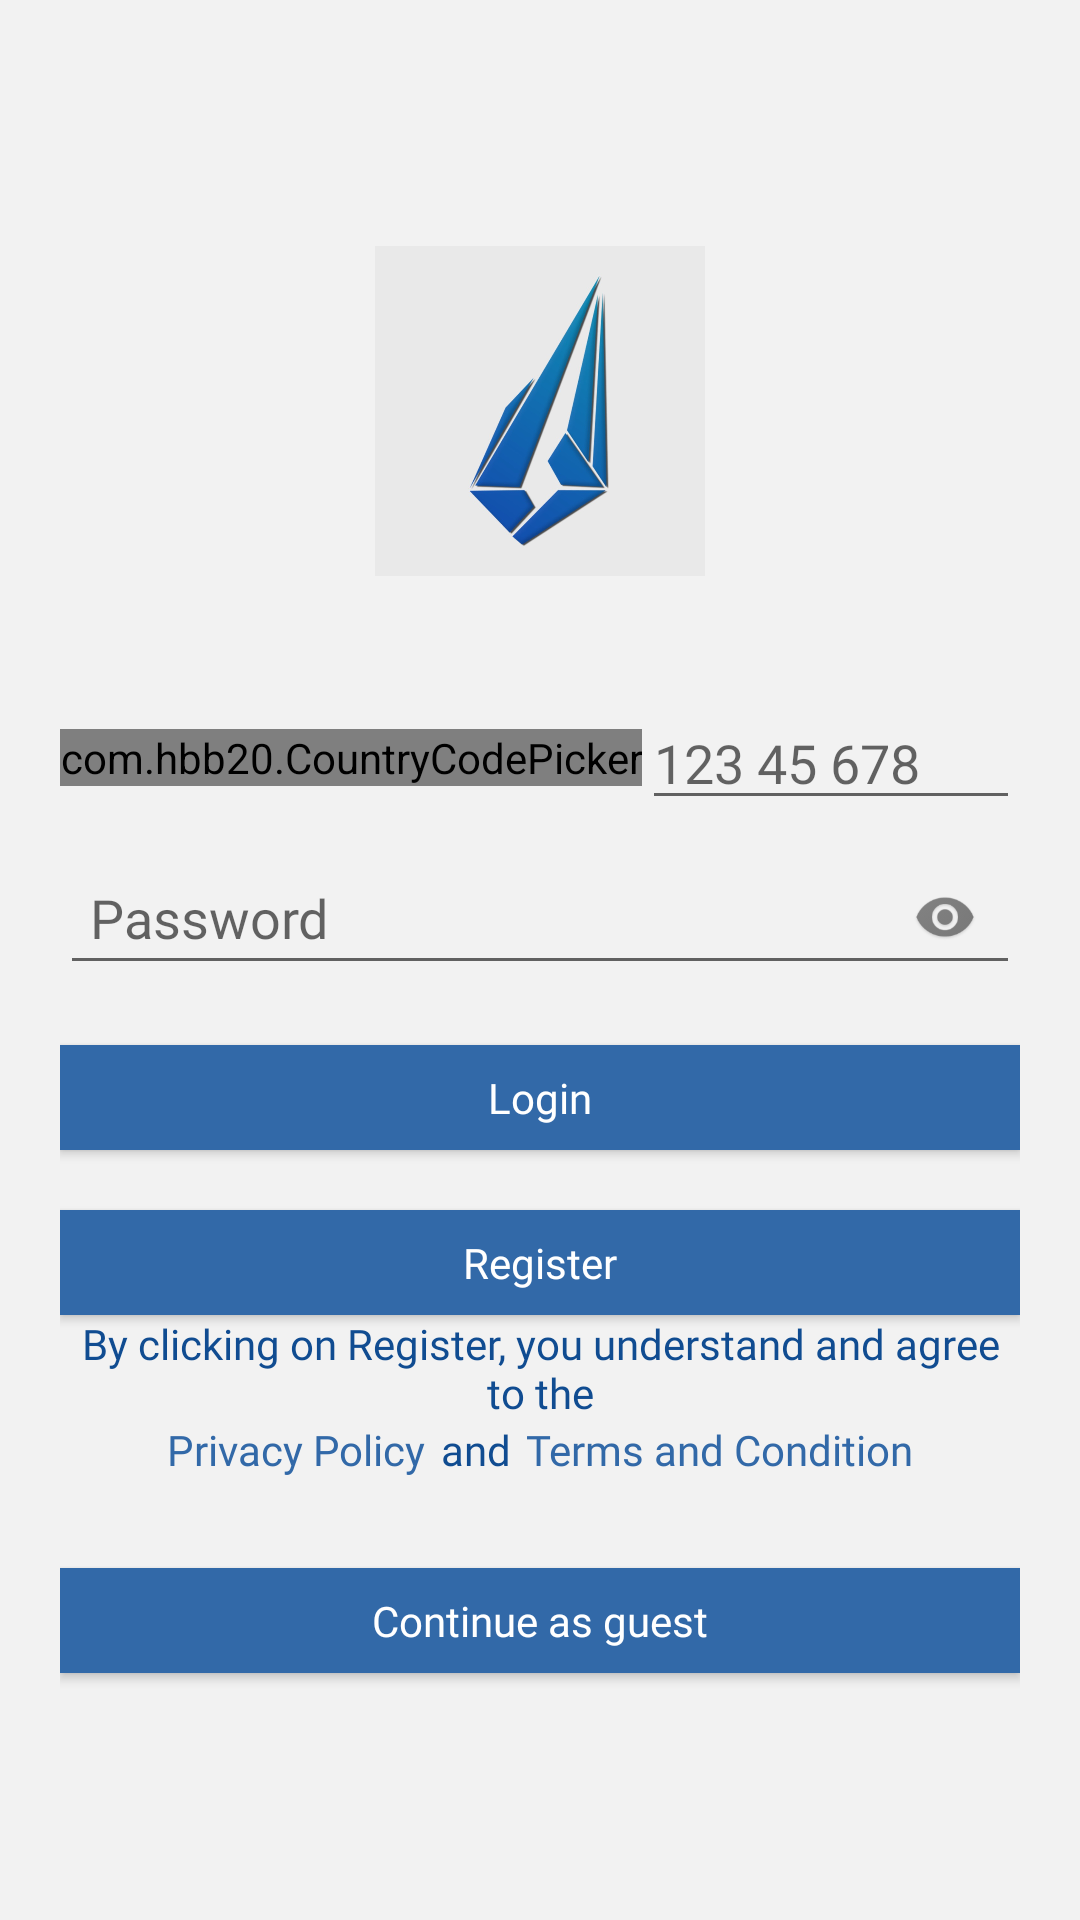

Named icons in this screenshot (1080*1920) and their centers, (x,y):
showpass: (945,917)
